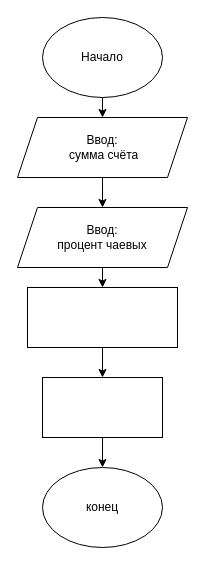
Some shapes in this 205 by 565 pixel diagram are drawn without their labels. The centre of each missing label's shape, as x and y in pixels:
"Вычисление: итог=счёт+ чаевые" goes at point 102,407.
"Вычисление: чаевые = счёт x процент /100" goes at point 102,317.
